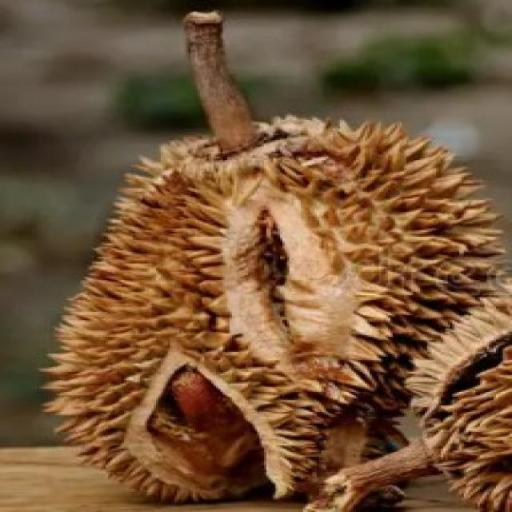rot: (17, 5, 512, 512)
